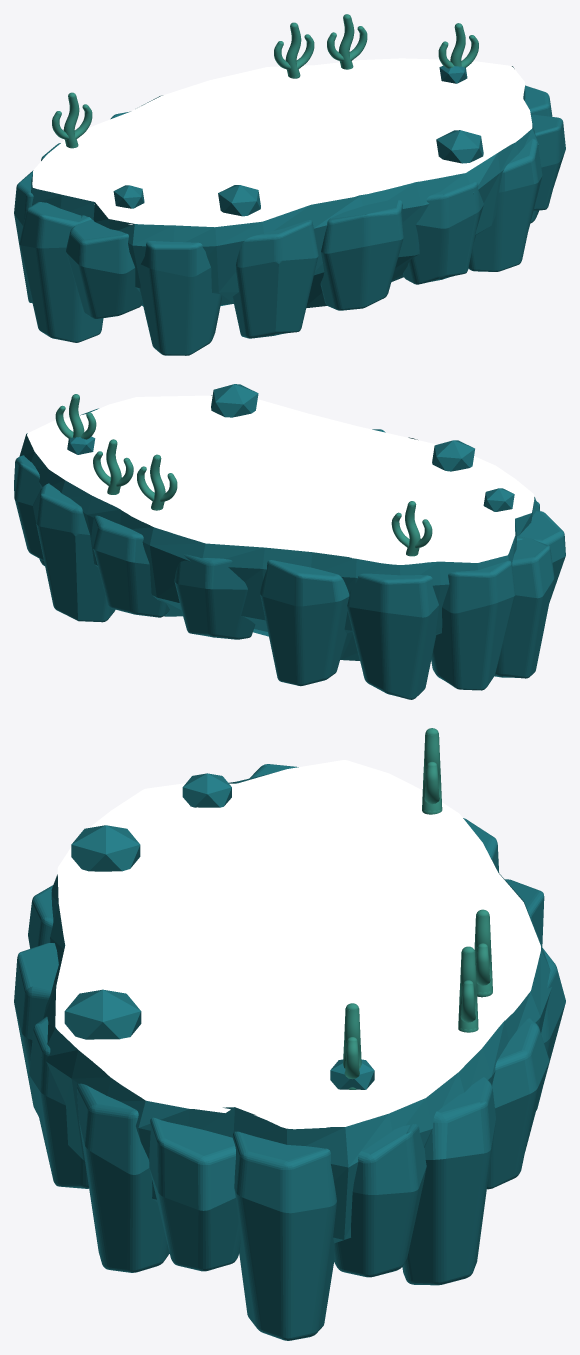
Rendered from island.glb.
3 views of the same model, one above another, from view 1: azimuth 30°, elevation 25°; view 2: azimuth 150°, elevation 25°; view 3: azimuth 270°, elevation 25° (orthographic). The views are drawn at different scales.
Parts seen in each view (by area): view 1: Sandy island top, Faceted rocky island, Cliff column.011, Cliff column.010, Cliff column.012, Cliff column.008, Cliff column.009, Cliff column.013, Cliff column.014, Cliff column.015, Faceted stone.002, Faceted stone.001 (+6 smaller); view 2: Sandy island top, Faceted rocky island, Cliff column.006, Cliff column.005, Cliff column.007, Cliff column.002, Cliff column.008, Cliff column.004, Cliff column.003, Cliff column.001, Cliff column.009, Faceted stone.002 (+7 smaller); view 3: Sandy island top, Cliff column, Faceted rocky island, Cliff column.002, Cliff column.014, Cliff column.015, Cliff column.001, Cliff column.003, Cliff column.013, Cliff column.012, Faceted stone.002, Faceted stone.001 (+8 smaller).
Boxes of the visible parts, box(x1,y1,x2,y2) form: Sandy island top: box(32, 58, 532, 227); Faceted rocky island: box(31, 66, 538, 307); Cliff column.011: box(232, 220, 318, 338); Cliff column.010: box(139, 241, 221, 355); Cliff column.012: box(320, 194, 403, 310); Cliff column.008: box(19, 202, 103, 342); Cliff column.009: box(66, 215, 142, 318); Cliff column.013: box(403, 182, 483, 284); Cliff column.014: box(468, 138, 542, 271); Cliff column.015: box(531, 114, 565, 210); Faceted stone.002: box(436, 130, 483, 163); Faceted stone.001: box(218, 185, 260, 216); Sandy island top: box(27, 395, 534, 564); Faceted rocky island: box(19, 395, 539, 660); Cliff column.006: box(347, 573, 438, 699); Cliff column.005: box(260, 560, 349, 686); Cliff column.007: box(431, 560, 515, 690); Cliff column.002: box(33, 483, 115, 622); Cliff column.008: box(494, 536, 554, 678); Cliff column.004: box(174, 554, 255, 639); Cliff column.003: box(91, 515, 169, 617); Cliff column.001: box(14, 455, 43, 560); Cliff column.009: box(515, 511, 565, 602); Faceted stone.002: box(211, 384, 258, 417); Sandy island top: box(55, 760, 540, 1129); Cliff column: box(232, 1131, 336, 1340); Faceted rocky island: box(41, 773, 551, 1243); Cliff column.002: box(402, 1077, 495, 1285); Cliff column.014: box(77, 1083, 169, 1272); Cliff column.015: box(149, 1117, 240, 1271); Cliff column.001: box(334, 1124, 426, 1277); Cliff column.003: box(487, 1018, 549, 1189); Cliff column.013: box(29, 1016, 88, 1188); Cliff column.012: box(14, 943, 65, 1116); Faceted stone.002: box(64, 989, 141, 1039); Faceted stone.001: box(71, 825, 140, 871).
Size of the model in its own units: 8.81 by 3.13 by 5.14.
